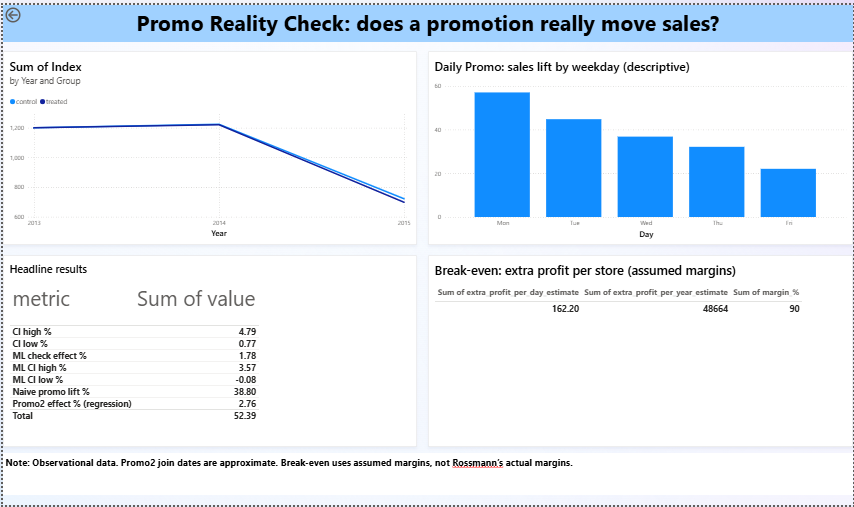

The dashboard page shown, as its layout file describes it:
{"tool":"powerbi","page":{"name":"Page 1","canvas":[1700,1000],"ordinal":0},"visuals":[{"type":"textbox","box":[0,0,1700,74],"z":0},{"type":"lineChart","fields":{"Category":["trend.Month.Variation.Date Hierarchy.Year","trend.Month.Variation.Date Hierarchy.Quarter","trend.Month.Variation.Date Hierarchy.Month","trend.Month.Variation.Date Hierarchy.Day"],"Y":["Sum(trend.Index)"],"Series":["trend.Group"]},"box":[0,92,828,388],"z":1000},{"type":"clusteredColumnChart","title":"Daily Promo: sales lift by weekday (descriptive)","fields":{"Category":["weekday_lift.Day"],"Y":["Sum(weekday_lift.lift_%)"]},"box":[850,92,850,388],"z":2000},{"type":"tableEx","title":"Headline results","fields":{"Values":["summary.metric","Sum(summary.value)"]},"box":[0,500,828,384],"z":3000},{"type":"tableEx","title":"Break-even: extra profit per store (assumed margins)","fields":{"Values":["Sum(break_even.extra_profit_per_day_estimate)","Sum(break_even.extra_profit_per_year_estimate)","Sum(break_even.margin_%)"]},"box":[850,500,850,384],"z":4000},{"type":"actionButton","box":[0,0,100,40],"z":5000},{"type":"textbox","box":[0,896,1700,84],"z":6000}]}

Visuals, with their boxes in screenshot pixels (x1, y1, x2, y2), scaled from the page's 1700x1000 canvas onto the 854x507 screenshot:
textbox: [left=0, top=0, right=853, bottom=38]
lineChart - trend.Month.Variation.Date Hierarchy.Year x trend.Month.Variation.Date Hierarchy.Quarter: [left=0, top=47, right=416, bottom=243]
"Daily Promo: sales lift by weekday (descriptive)" clusteredColumnChart: [left=427, top=47, right=853, bottom=243]
"Headline results" tableEx: [left=0, top=254, right=416, bottom=448]
"Break-even: extra profit per store (assumed margins)" tableEx: [left=427, top=254, right=853, bottom=448]
actionButton: [left=0, top=0, right=50, bottom=20]
textbox: [left=0, top=454, right=853, bottom=497]
